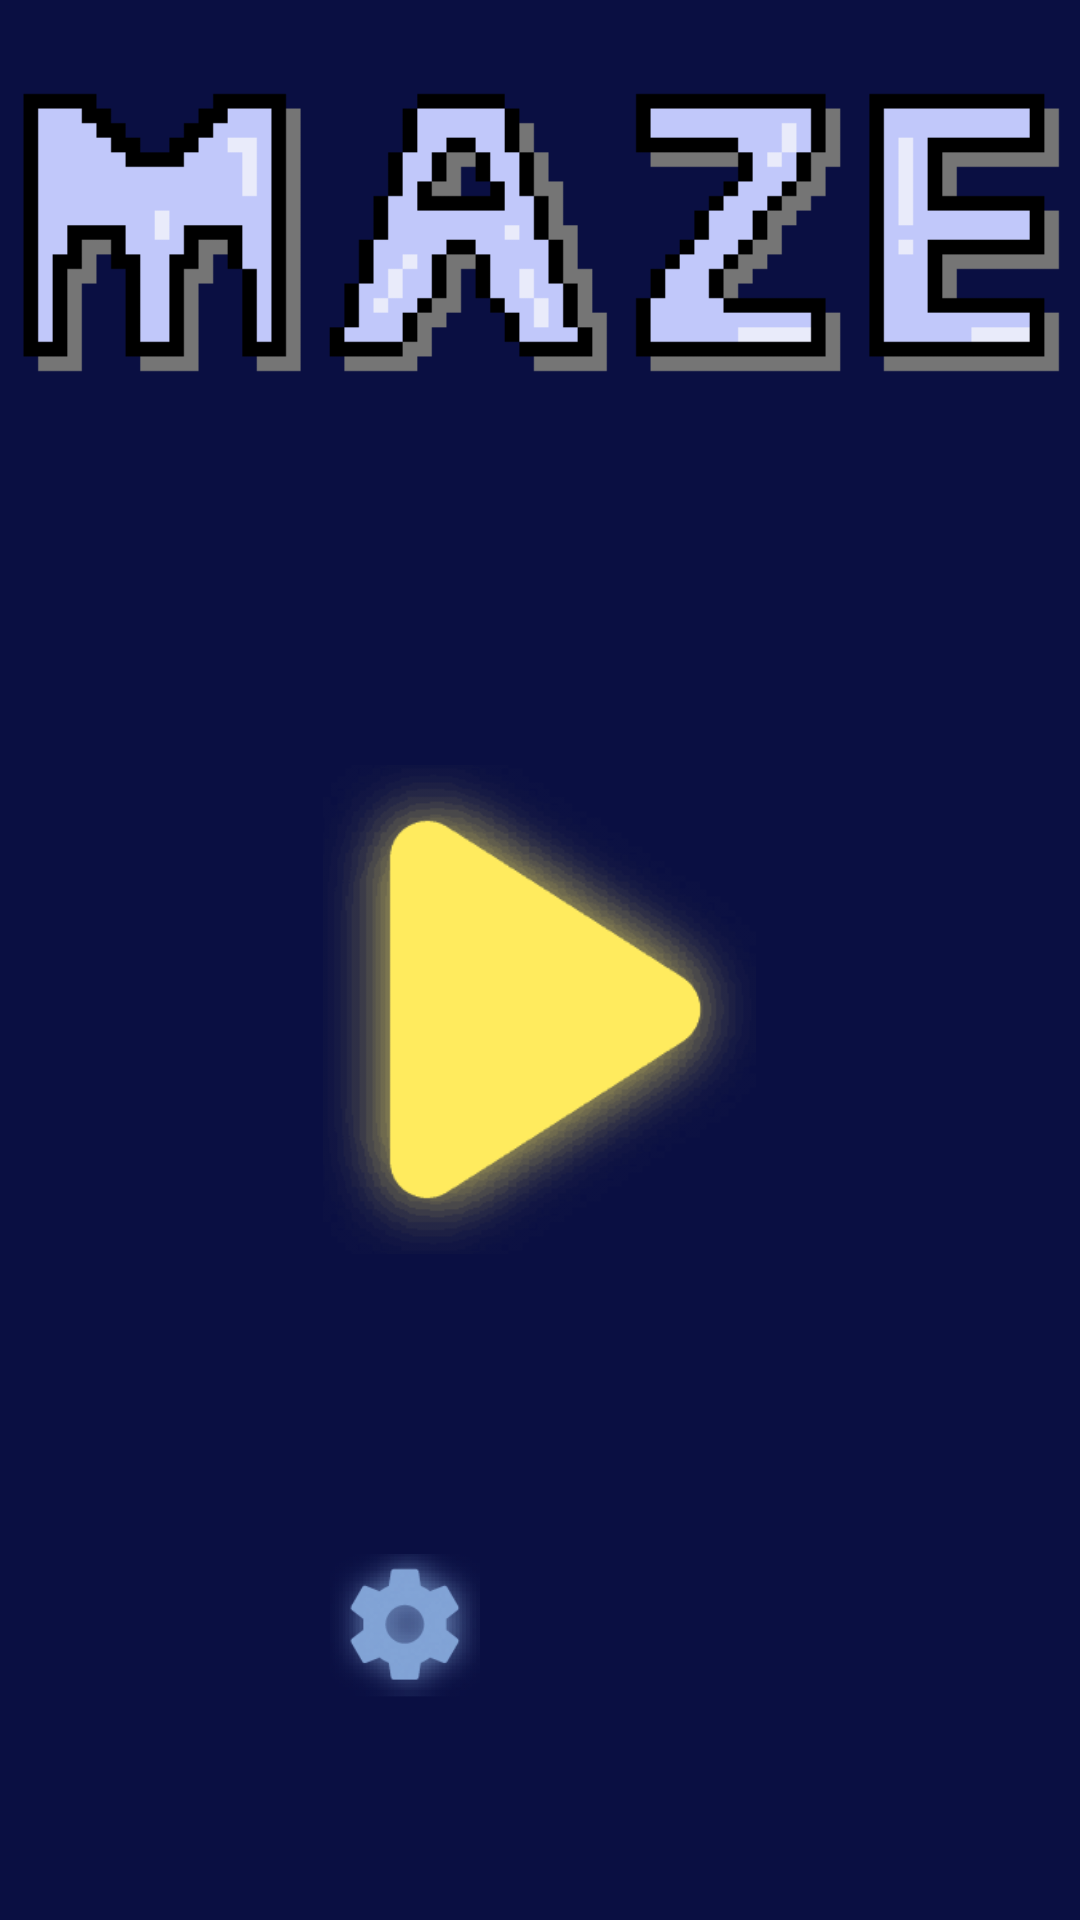

Where to tap for icons on this 1080 × 1920 app screen, as [x,y]:
setting: [408,1623]
